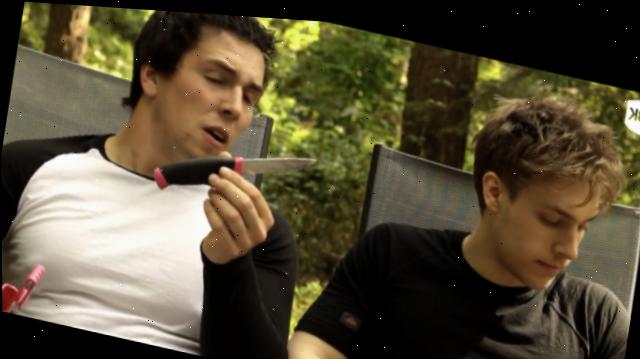pocket-knife: (145, 110, 324, 228)
